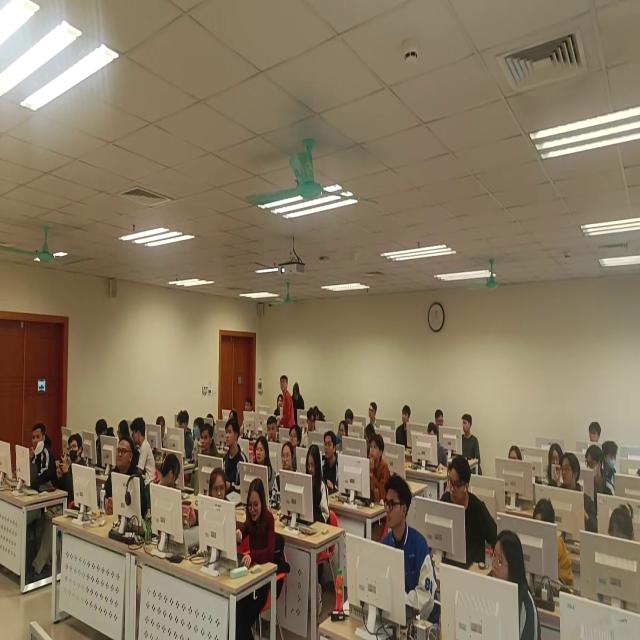raise_head: (362, 481, 436, 620), (461, 536, 543, 640), (547, 459, 588, 536), (350, 437, 390, 512), (104, 441, 136, 504), (272, 444, 295, 509), (319, 433, 343, 493), (244, 441, 273, 490), (216, 423, 243, 471), (360, 398, 384, 439), (393, 404, 414, 449), (195, 424, 216, 466), (239, 398, 258, 432), (581, 422, 605, 447), (263, 418, 280, 446), (336, 423, 350, 451), (287, 426, 302, 448)
stand: (281, 374, 295, 432)
using_computer: (433, 461, 493, 559), (588, 508, 640, 606), (232, 484, 277, 591), (517, 501, 571, 590), (8, 425, 51, 495), (292, 448, 326, 527), (585, 440, 620, 509), (500, 442, 529, 509), (451, 411, 481, 470), (413, 424, 447, 476), (85, 418, 114, 468), (170, 410, 191, 459)
using_phone: (57, 440, 84, 513), (537, 441, 567, 494)
